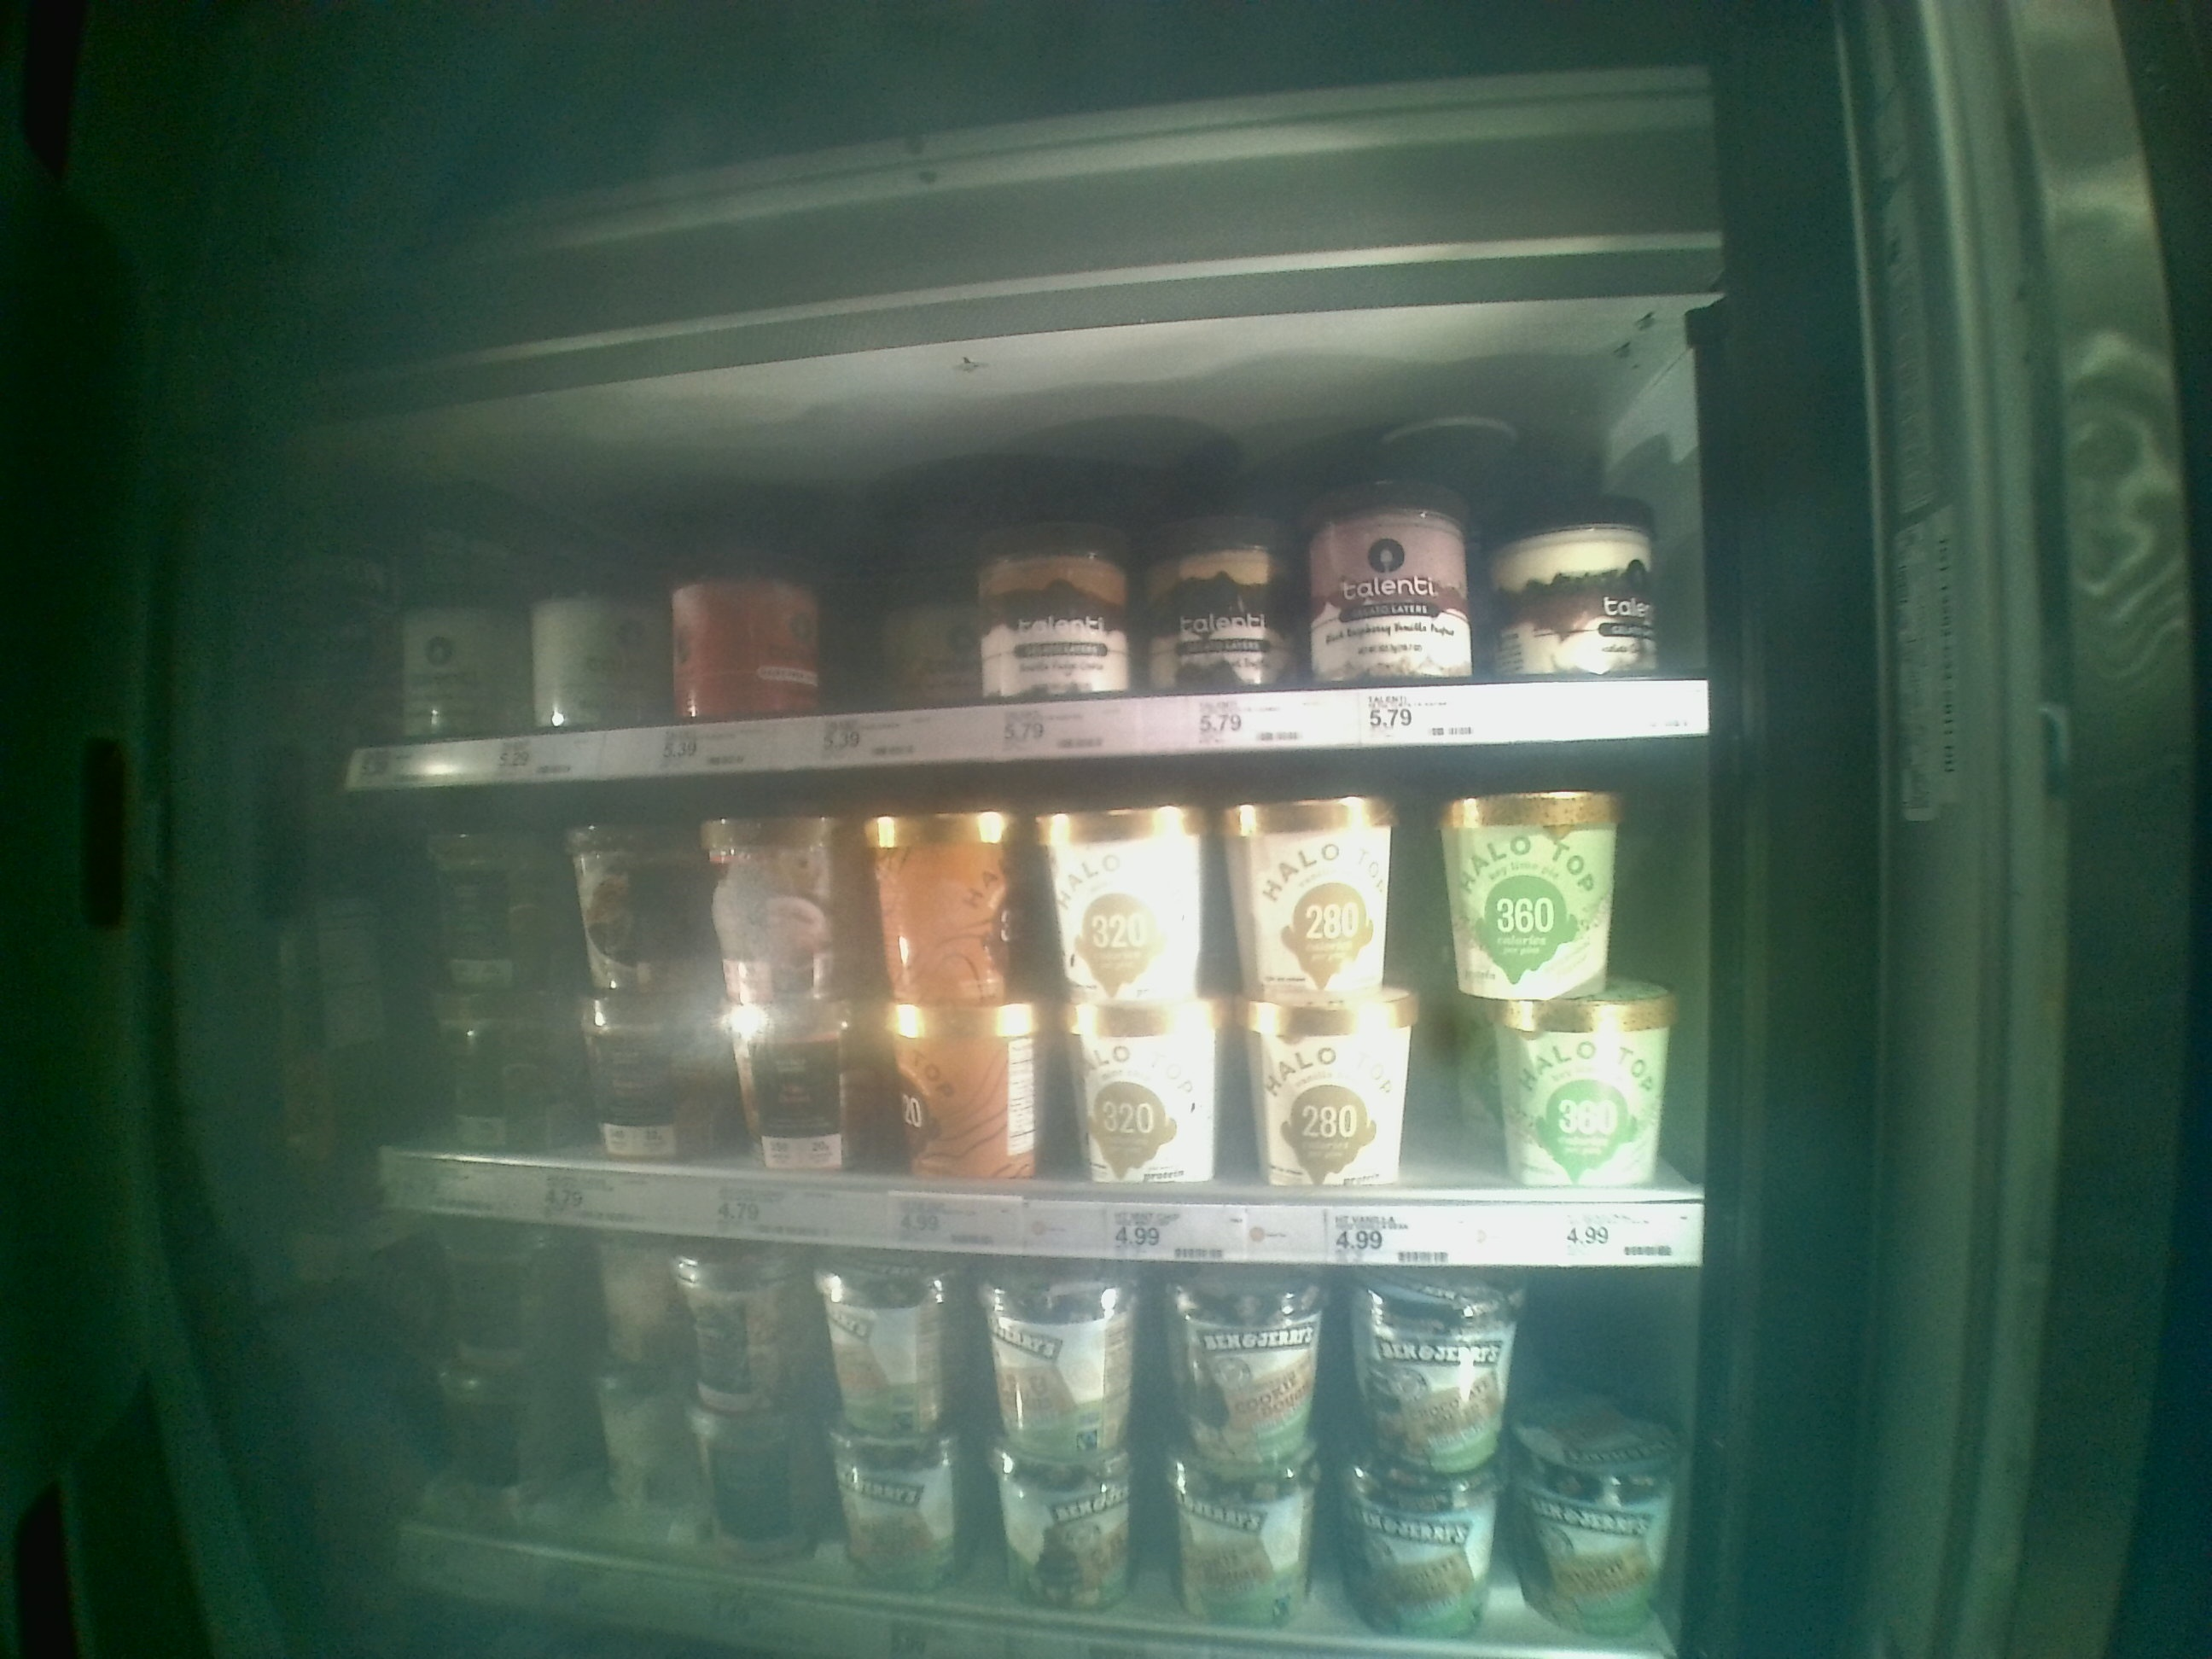ice-cream-shelf: (348, 788, 1684, 1269)
